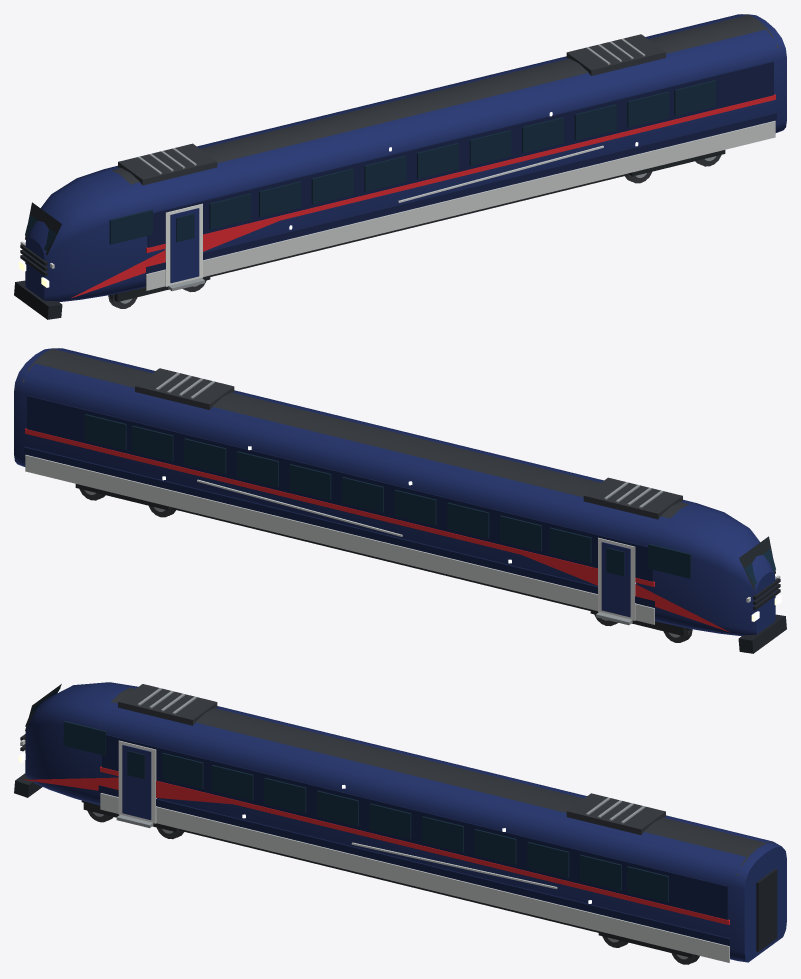
Rendered from nightjet-new-generation-control-seat-car.glb.
3 views of the same model, one above another, from view 1: azimuth 30°, elevation 25°; view 2: azimuth 150°, elevation 25°; view 3: azimuth 330°, elevation 25° (orthographic).
Parts seen in each view (by area): view 1: nightjet_control_lofted_body, control_seat_car_silver_skirt_-1, control_seat_car_window_backdrop_-1, control_seat_car_roof_cap, control_seat_car_dark_sill_-1, control_seat_car_red_belt_-1, control_seat_car_roof_hvac_0, control_seat_car_roof_hvac_1, control_seat_car_door_leaf_-1, nightjet_control_red_swoosh_-1, control_seat_car_window_-1_0, control_seat_car_window_-1_2 (+13 smaller); view 2: nightjet_control_lofted_body, control_seat_car_silver_skirt_1, control_seat_car_window_backdrop_1, control_seat_car_roof_cap, control_seat_car_dark_sill_1, control_seat_car_red_belt_1, control_seat_car_roof_hvac_0, control_seat_car_roof_hvac_1, control_seat_car_door_leaf_1, nightjet_control_red_swoosh_1, control_seat_car_window_1_0, control_seat_car_window_1_2 (+15 smaller); view 3: nightjet_control_lofted_body, control_seat_car_silver_skirt_-1, control_seat_car_window_backdrop_-1, control_seat_car_roof_cap, control_seat_car_dark_sill_-1, control_seat_car_red_belt_-1, control_seat_car_roof_hvac_1, control_seat_car_roof_hvac_0, control_seat_car_door_leaf_-1, gangway_0.004, nightjet_control_red_swoosh_-1, control_seat_car_window_-1_1 (+13 smaller).
Boxes of the visible parts, x1=… form: nightjet_control_lofted_body: x1=25, y1=14, x2=786, y2=301; control_seat_car_silver_skirt_-1: x1=146, y1=121, x2=775, y2=290; control_seat_car_window_backdrop_-1: x1=147, y1=61, x2=773, y2=247; control_seat_car_roof_cap: x1=112, y1=14, x2=778, y2=203; control_seat_car_dark_sill_-1: x1=145, y1=112, x2=776, y2=273; control_seat_car_red_belt_-1: x1=146, y1=94, x2=775, y2=252; control_seat_car_roof_hvac_0: x1=118, y1=143, x2=217, y2=185; control_seat_car_roof_hvac_1: x1=566, y1=34, x2=665, y2=75; control_seat_car_door_leaf_-1: x1=170, y1=208, x2=199, y2=283; nightjet_control_red_swoosh_-1: x1=71, y1=214, x2=294, y2=298; control_seat_car_window_-1_0: x1=209, y1=193, x2=251, y2=229; control_seat_car_window_-1_2: x1=311, y1=168, x2=353, y2=204; nightjet_control_lofted_body: x1=14, y1=348, x2=775, y2=635; control_seat_car_silver_skirt_1: x1=25, y1=455, x2=654, y2=624; control_seat_car_window_backdrop_1: x1=27, y1=395, x2=653, y2=581; control_seat_car_roof_cap: x1=22, y1=348, x2=688, y2=537; control_seat_car_dark_sill_1: x1=24, y1=446, x2=655, y2=607; control_seat_car_red_belt_1: x1=25, y1=428, x2=654, y2=586; control_seat_car_roof_hvac_0: x1=583, y1=477, x2=682, y2=519; control_seat_car_roof_hvac_1: x1=135, y1=368, x2=234, y2=409; control_seat_car_door_leaf_1: x1=601, y1=542, x2=630, y2=617; nightjet_control_red_swoosh_1: x1=506, y1=548, x2=729, y2=632; control_seat_car_window_1_0: x1=549, y1=527, x2=591, y2=563; control_seat_car_window_1_2: x1=447, y1=502, x2=489, y2=538; nightjet_control_lofted_body: x1=25, y1=682, x2=786, y2=962; control_seat_car_silver_skirt_-1: x1=100, y1=793, x2=729, y2=962; control_seat_car_window_backdrop_-1: x1=102, y1=734, x2=728, y2=919; control_seat_car_roof_cap: x1=100, y1=687, x2=772, y2=875; control_seat_car_dark_sill_-1: x1=98, y1=785, x2=730, y2=945; control_seat_car_red_belt_-1: x1=100, y1=766, x2=729, y2=924; control_seat_car_roof_hvac_1: x1=566, y1=793, x2=665, y2=834; control_seat_car_roof_hvac_0: x1=118, y1=684, x2=217, y2=725; control_seat_car_door_leaf_-1: x1=122, y1=745, x2=151, y2=819; gangway_0.004: x1=756, y1=869, x2=777, y2=951; nightjet_control_red_swoosh_-1: x1=23, y1=777, x2=248, y2=805; control_seat_car_window_-1_1: x1=211, y1=765, x2=253, y2=800.
Size of the model in its own units: 26.63 by 4.36 by 3.45.
